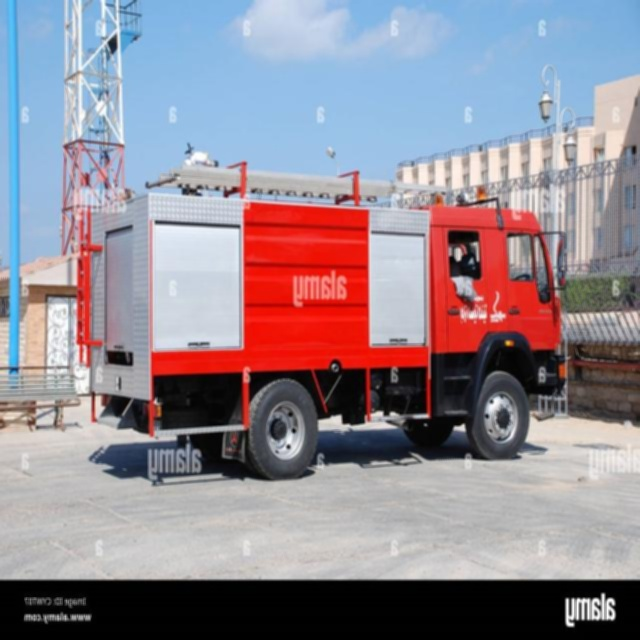Fire-truck: (85, 152, 569, 480)
